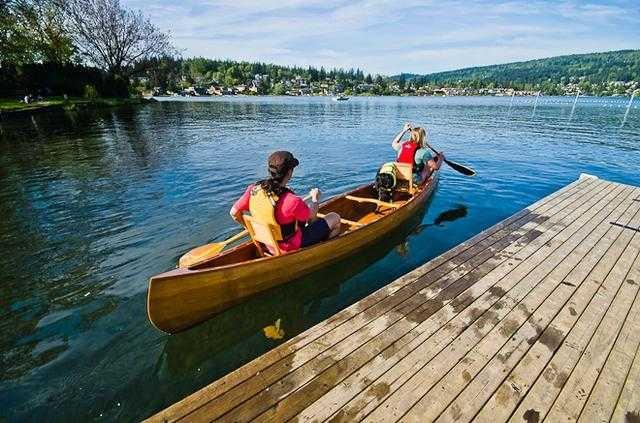kayak: (147, 155, 442, 336)
